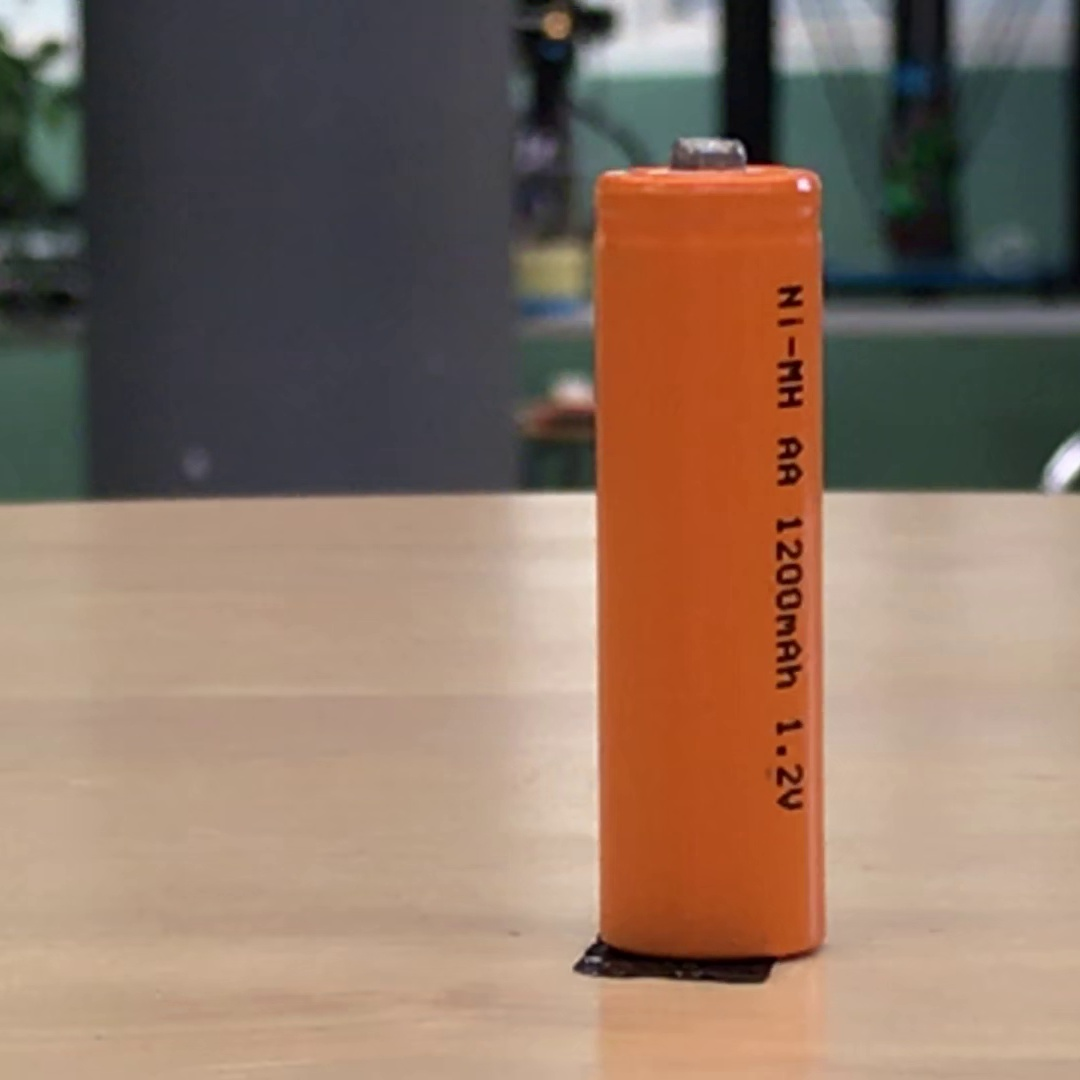keyword: (768, 275, 813, 418), (766, 710, 812, 820)
